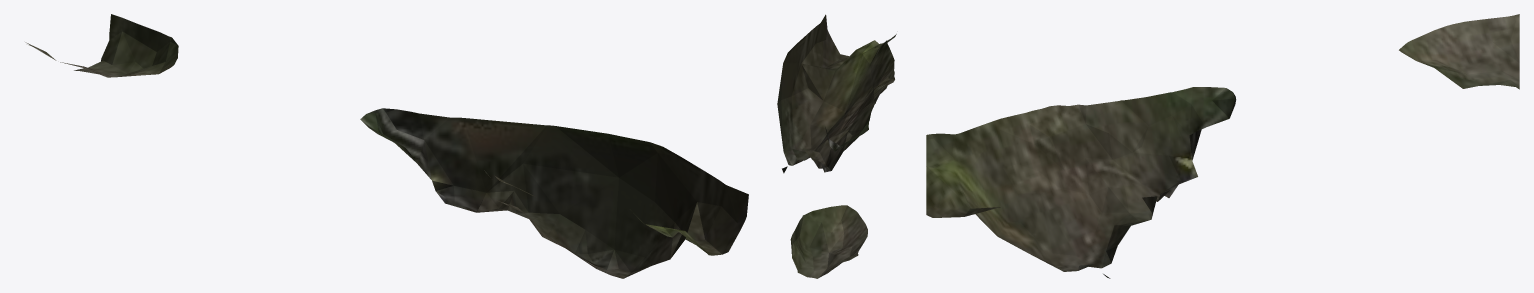
3 renders of one model, left to right at view 1: azimuth 30°, elevation 25°; view 2: azimuth 150°, elevation 25°; view 3: azimuth 270°, elevation 25°, orthographic. The views are drawn at different scales.
Size of the model in its own units: 3.86 by 1.32 by 5.9.
1 material, 1 textured.
